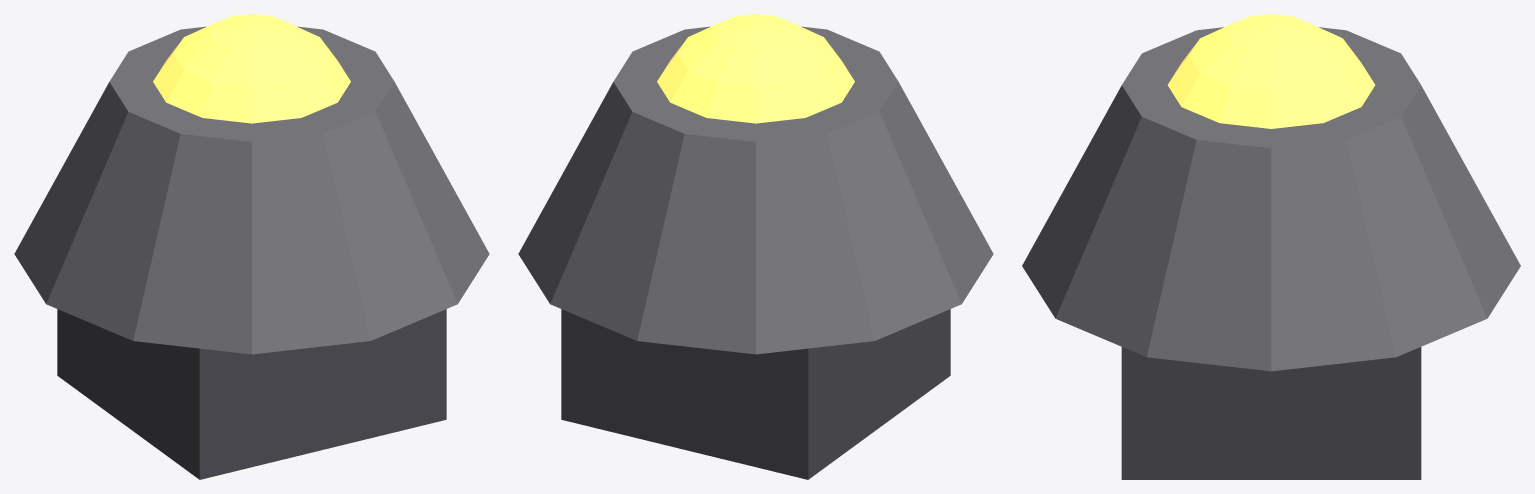
Rendered from dragon-brazier.glb.
The picture shows the model from 3 angles, left to right: view 1: azimuth 30°, elevation 25°; view 2: azimuth 150°, elevation 25°; view 3: azimuth 270°, elevation 25°; orthographic projection. The views are drawn at different scales.
Parts seen in each view (by area): view 1: Iron_Bowl, Brazier_Base, Fire_Embers; view 2: Iron_Bowl, Brazier_Base, Fire_Embers; view 3: Iron_Bowl, Brazier_Base, Fire_Embers.
Boxes of the visible parts, x1,y1,x2,y2 form: Iron_Bowl: (14, 26, 489, 354); Brazier_Base: (57, 309, 446, 479); Fire_Embers: (153, 14, 350, 123); Iron_Bowl: (518, 26, 993, 354); Brazier_Base: (561, 309, 950, 479); Fire_Embers: (657, 14, 854, 123); Iron_Bowl: (1022, 27, 1520, 371); Brazier_Base: (1121, 347, 1421, 479); Fire_Embers: (1167, 14, 1375, 128).
Size of the model in its own units: 1.5 by 1.3 by 1.5.
